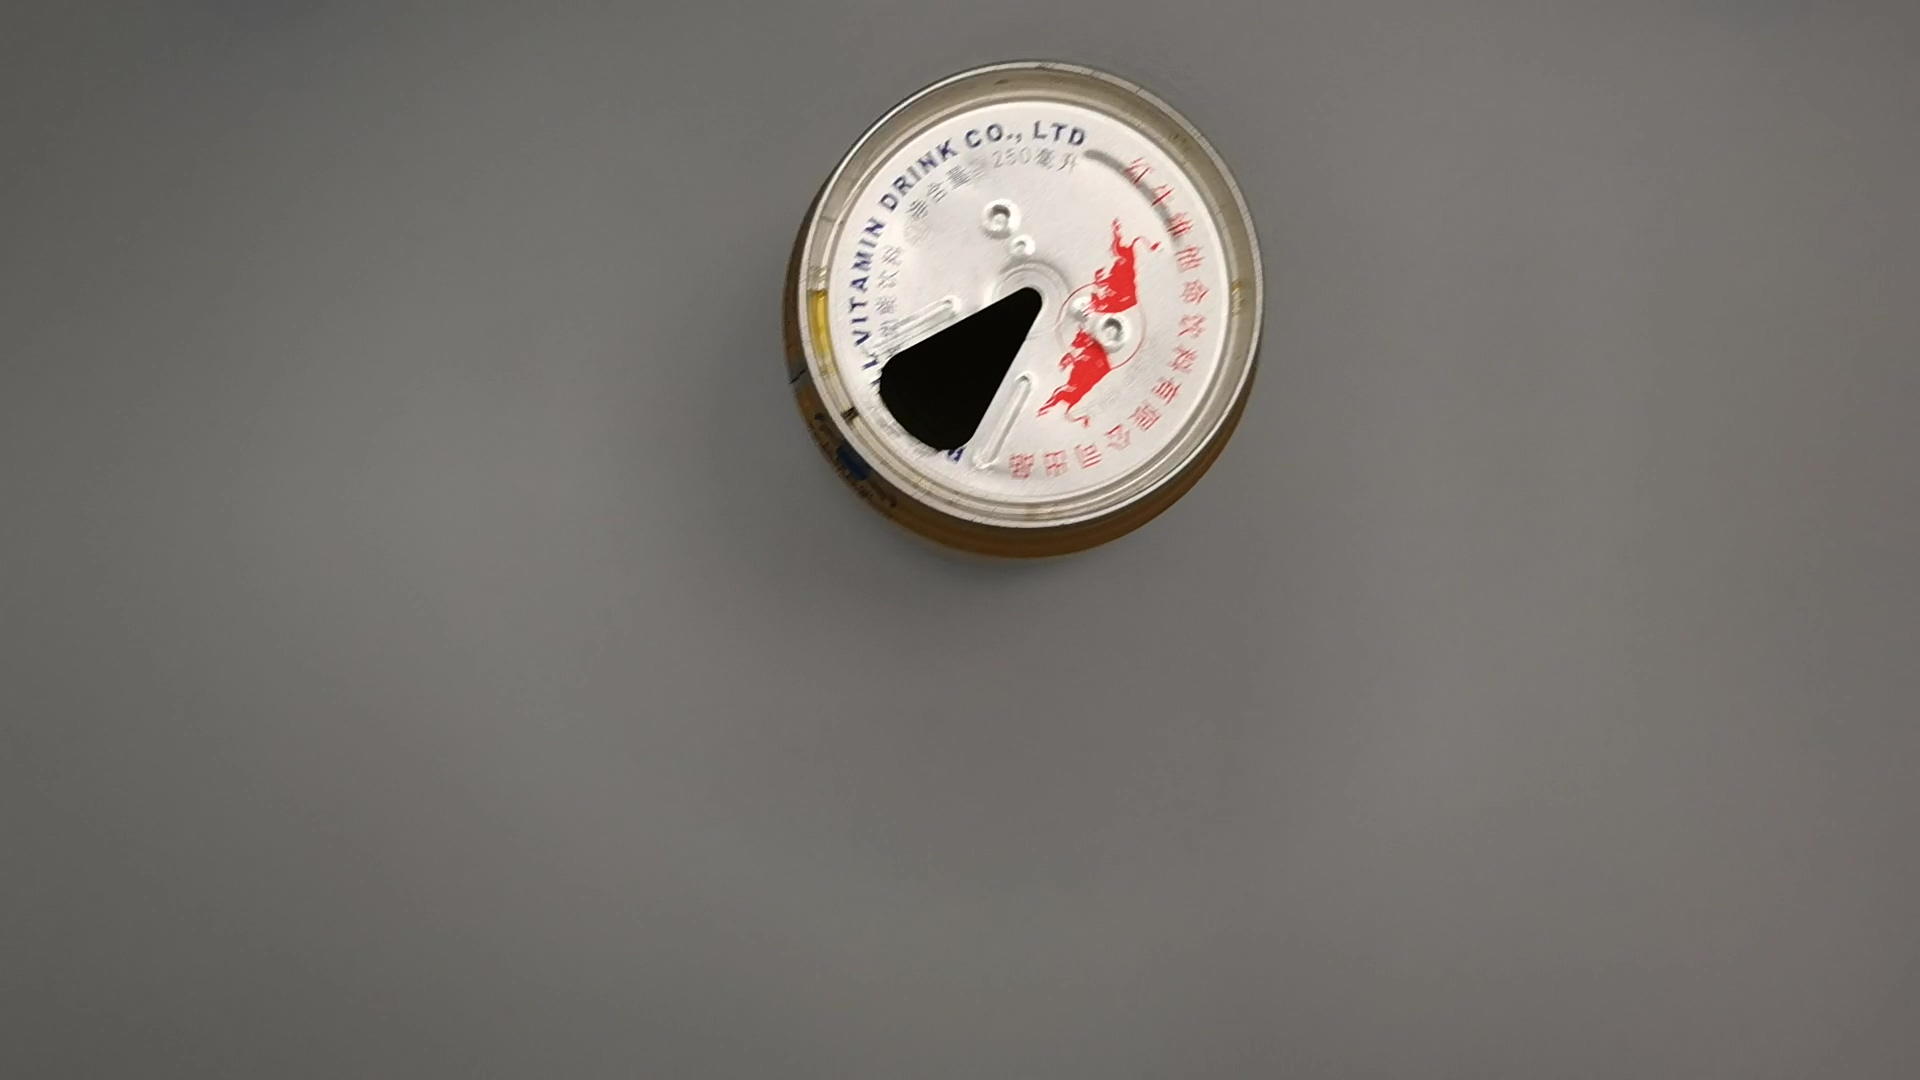can: (774, 53, 1276, 579)
